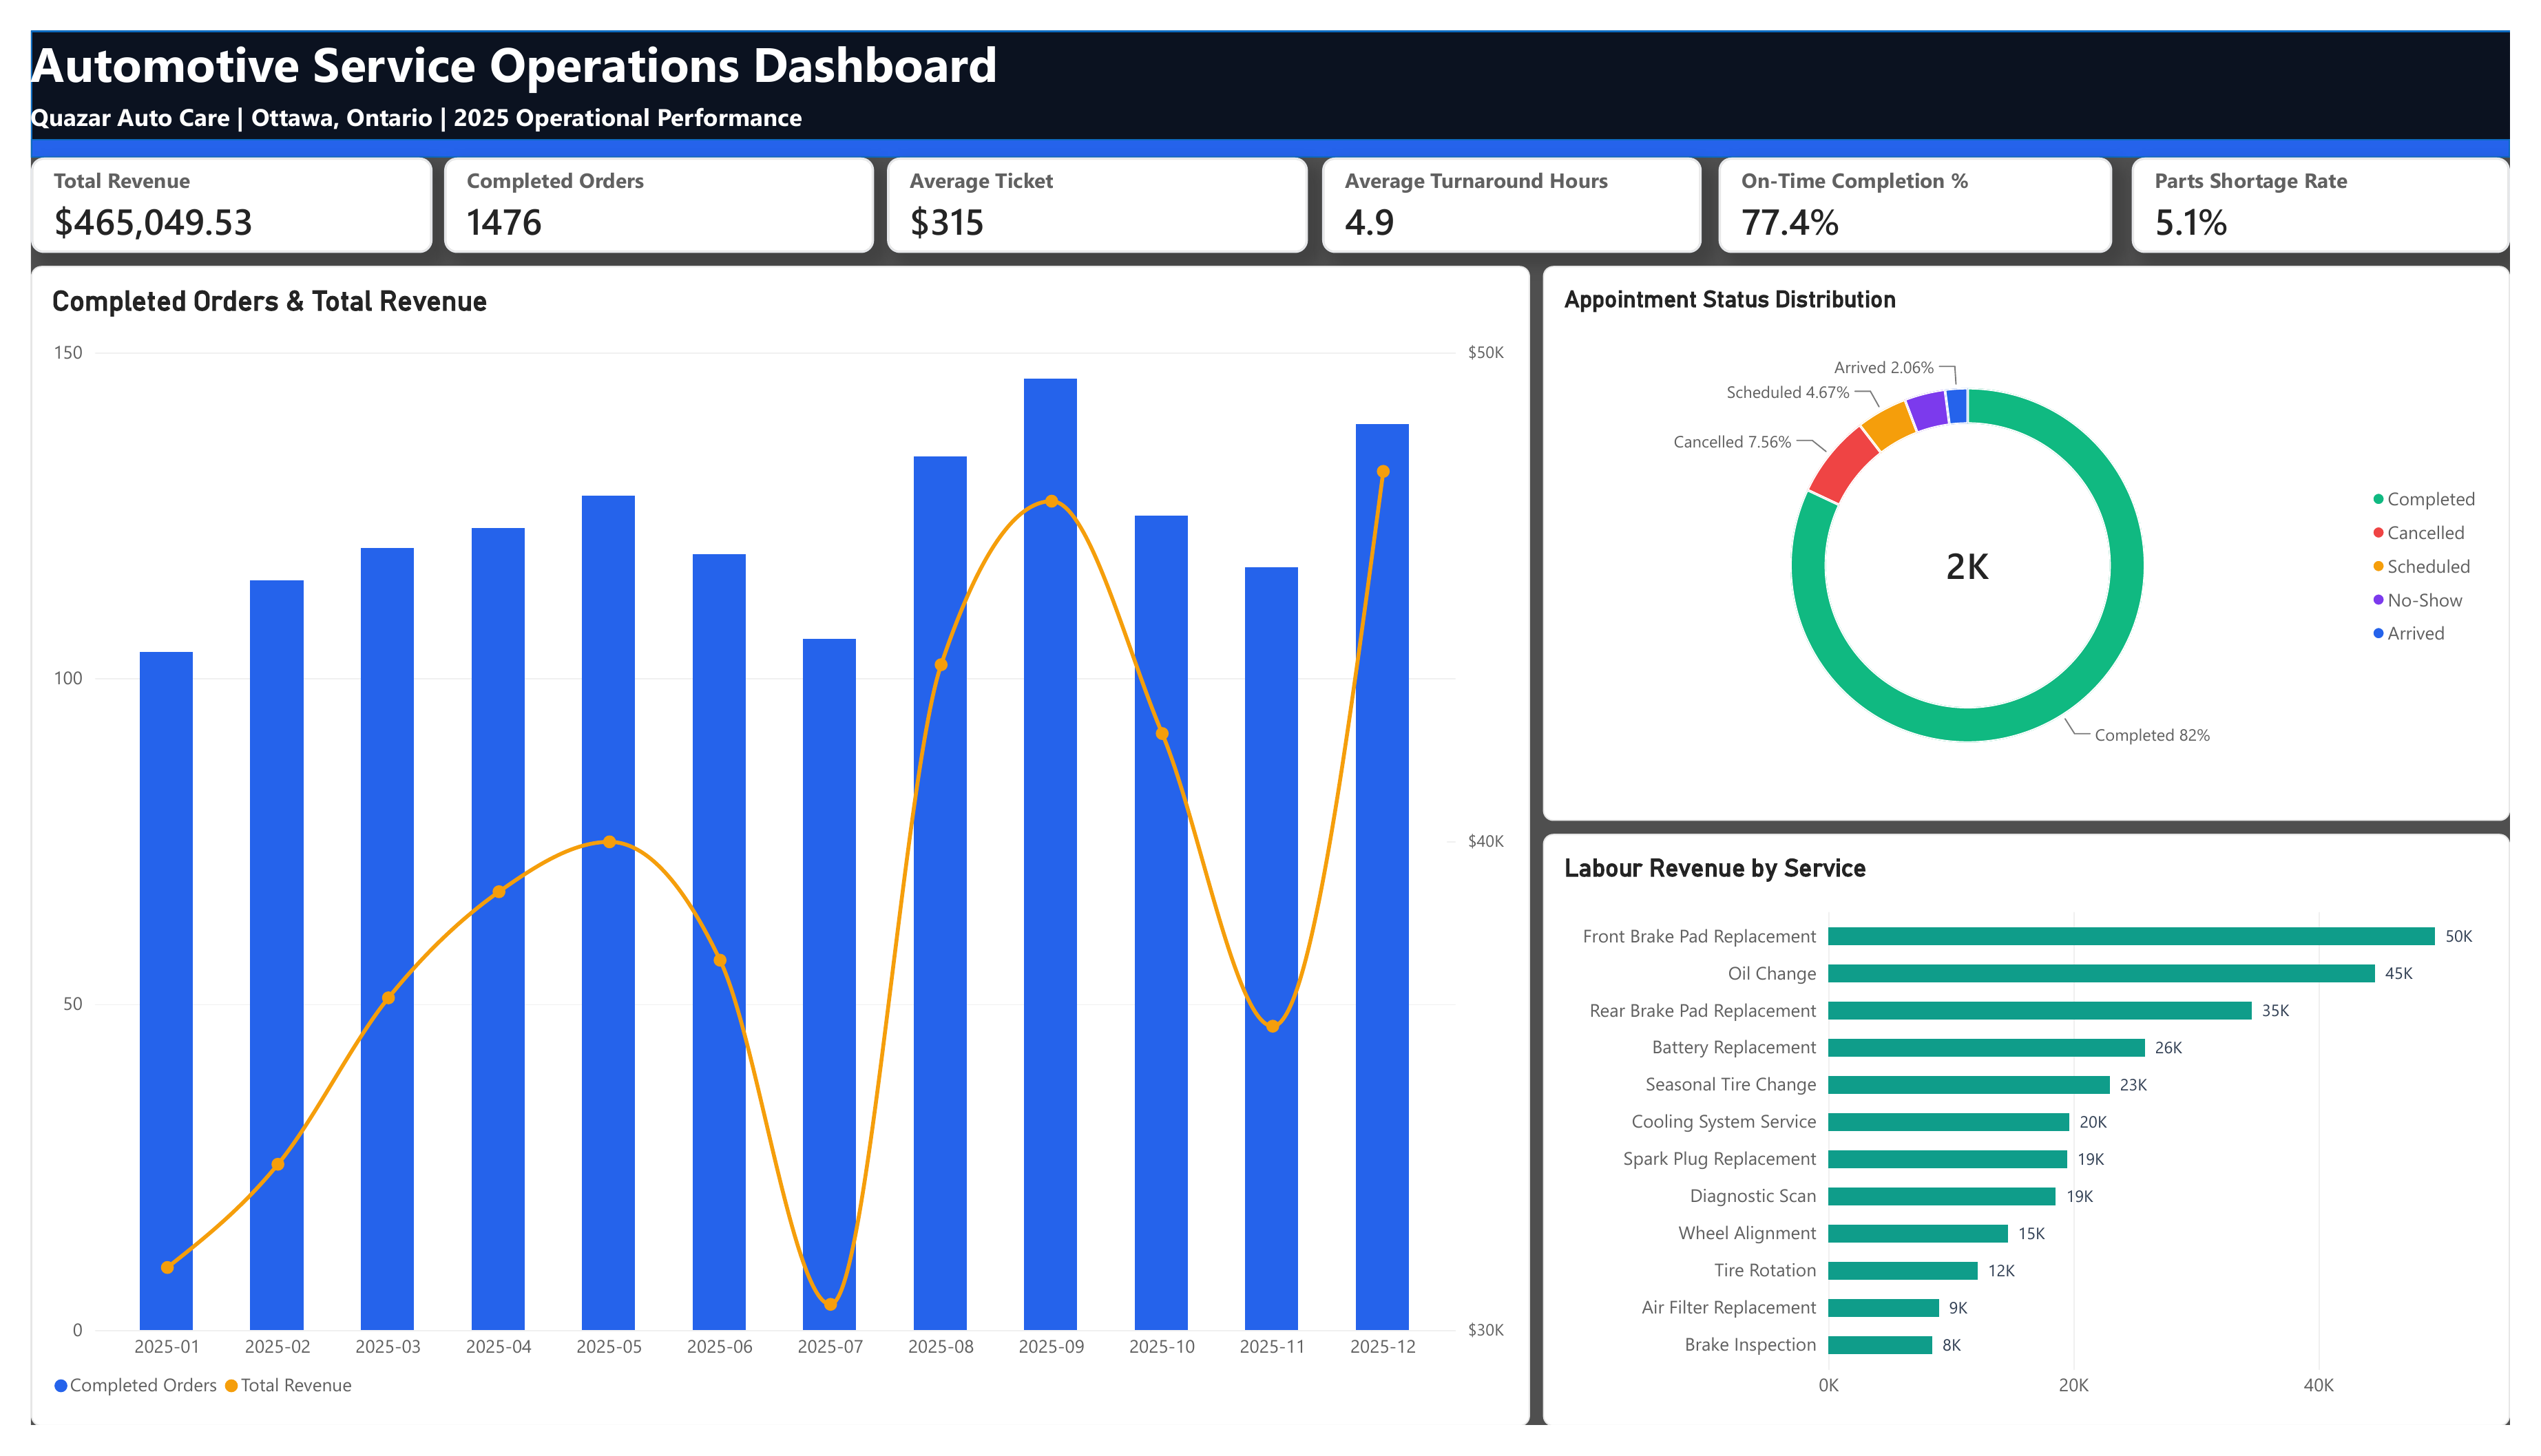

Layout of this report page (visuals, bound fields, positions):
{"tool":"powerbi","page":{"name":"Operations Overview","canvas":[1920,1080],"ordinal":0},"visuals":[{"type":"shape","box":[0,0,1920.5,98.1],"z":0},{"type":"shape","box":[0,84.4,1920,14.1],"z":1000},{"type":"cardVisual","fields":{"Data":["vw_RepairOrderPerformance.Total Revenue"]},"box":[0,98.5,310.8,73.5],"z":2000},{"type":"cardVisual","fields":{"Data":["vw_RepairOrderPerformance.Completed Orders"]},"box":[320.5,98.5,332.9,73.5],"z":3000},{"type":"cardVisual","fields":{"Data":["vw_RepairOrderPerformance.Average Ticket"]},"box":[663.1,98.5,326,73.5],"z":4000},{"type":"cardVisual","fields":{"Data":["vw_RepairOrderPerformance.Average Turnaround Hours"]},"box":[1000.2,98.5,294.1,73.5],"z":5000},{"type":"cardVisual","fields":{"Data":["vw_RepairOrderPerformance.On-Time Completion %"]},"box":[1306.8,98.5,305.2,73.5],"z":6000},{"type":"cardVisual","fields":{"Data":["vw_RepairOrderPerformance.Parts Shortage Rate"]},"box":[1627.3,98.5,292.7,73.5],"z":7000},{"type":"textbox","box":[0,0,772.1,53.8],"z":8000},{"type":"textbox","box":[0,54.1,598.2,27.1],"z":9000},{"type":"lineClusteredColumnComboChart","title":"Completed Orders & Total Revenue","fields":{"Category":["Calendar.Year Month"],"Y":["vw_RepairOrderPerformance.Completed Orders"],"Y2":["vw_RepairOrderPerformance.Total Revenue"]},"box":[0,181.7,1161.2,899],"z":10000},{"type":"donutChart","title":"Appointment Status Distribution","fields":{"Category":["vw_DailyBookings.AppointmentStatus"],"Y":["Sum(vw_DailyBookings.AppointmentCount)"]},"box":[1170.9,181.7,749.1,430.1],"z":11000},{"type":"clusteredBarChart","title":"Labour Revenue by Service","fields":{"Category":["vw_ServicePerformance.ServiceName"],"Y":["Sum(vw_ServicePerformance.LaborRevenue)"]},"box":[1170.9,621.5,749.1,459.2],"z":12000}]}

Visuals, with their boxes in screenshot pixels (x1, y1, x2, y2), scaled from the page's 1920x1080 canvas onto the 2541x1456 screenshot:
shape: l=0, t=0, r=2540, b=132
shape: l=0, t=114, r=2540, b=133
cardVisual - vw_RepairOrderPerformance.Total Revenue: l=0, t=133, r=411, b=232
cardVisual - vw_RepairOrderPerformance.Completed Orders: l=424, t=133, r=865, b=232
cardVisual - vw_RepairOrderPerformance.Average Ticket: l=877, t=133, r=1309, b=232
cardVisual - vw_RepairOrderPerformance.Average Turnaround Hours: l=1324, t=133, r=1713, b=232
cardVisual - vw_RepairOrderPerformance.On-Time Completion %: l=1730, t=133, r=2133, b=232
cardVisual - vw_RepairOrderPerformance.Parts Shortage Rate: l=2153, t=133, r=2540, b=232
textbox: l=0, t=0, r=1022, b=72
textbox: l=0, t=73, r=792, b=109
"Completed Orders & Total Revenue" lineClusteredColumnComboChart: l=0, t=245, r=1537, b=1455
"Appointment Status Distribution" donutChart: l=1549, t=245, r=2540, b=825
"Labour Revenue by Service" clusteredBarChart: l=1549, t=838, r=2540, b=1455
